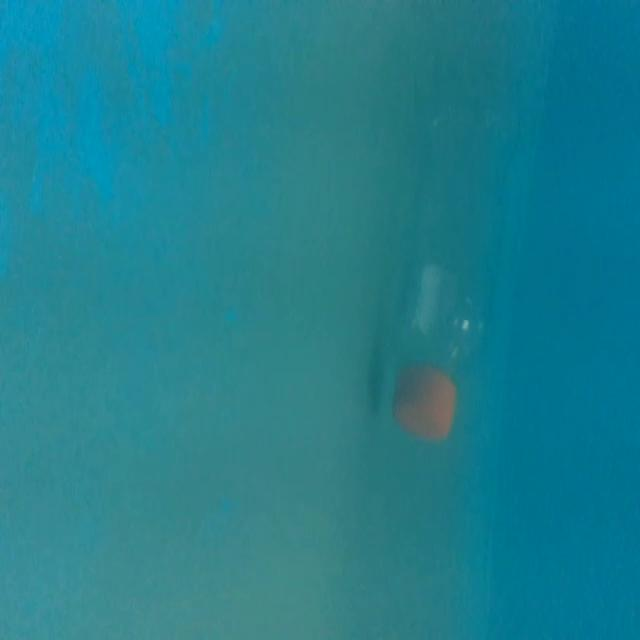plastic bottle: (391, 58, 539, 454)
